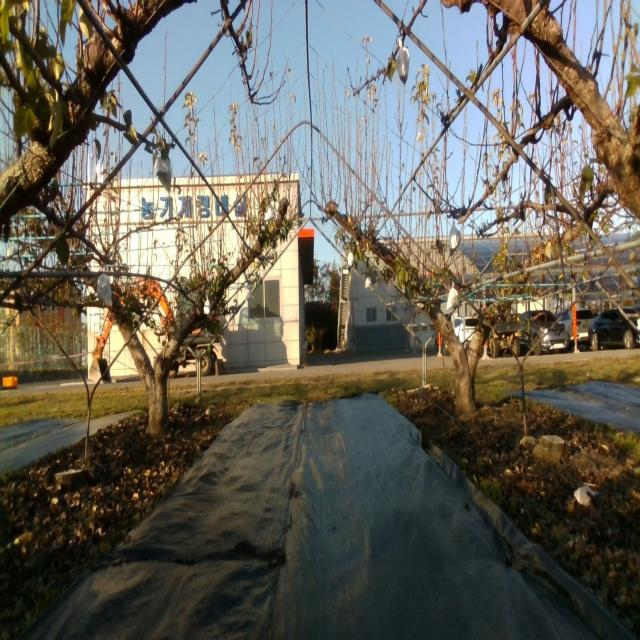pearbags: (154, 154, 172, 193), (396, 39, 410, 86), (97, 272, 113, 308), (448, 221, 461, 256), (446, 282, 460, 310)
